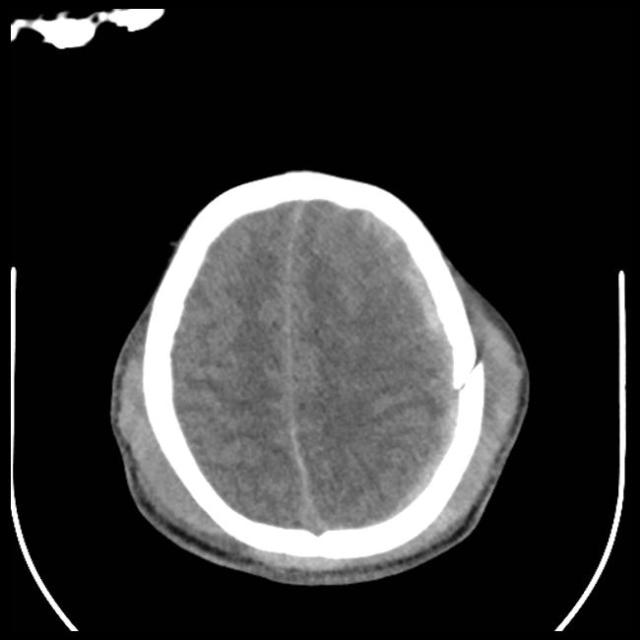lesion: (106, 164, 533, 588)
